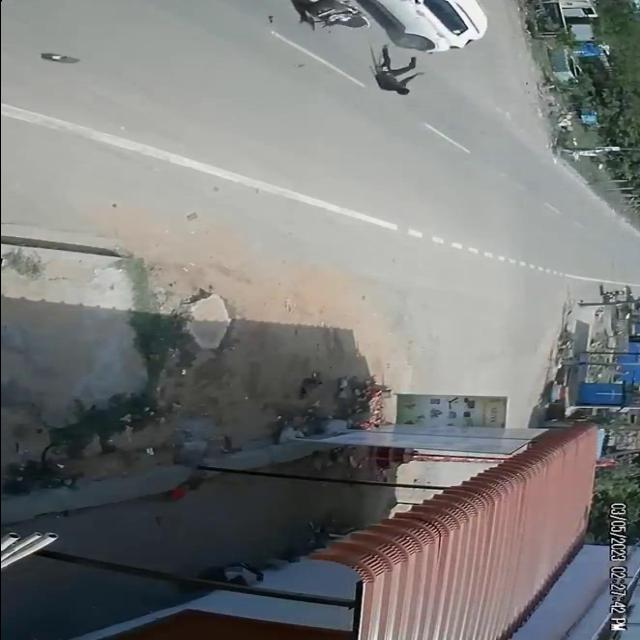accident: (280, 0, 491, 98)
